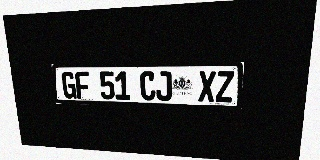1: (114, 71, 130, 100)
5: (99, 71, 115, 100)
C: (140, 71, 156, 101)
F: (75, 72, 90, 99)
G: (61, 72, 77, 99)
J: (156, 71, 172, 101)
X: (198, 71, 216, 102)
Z: (216, 71, 234, 102)
